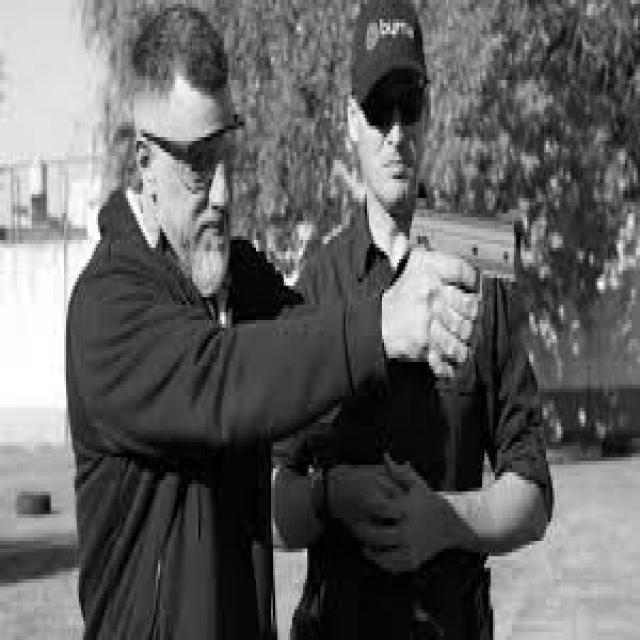handgun: (406, 209, 520, 300)
